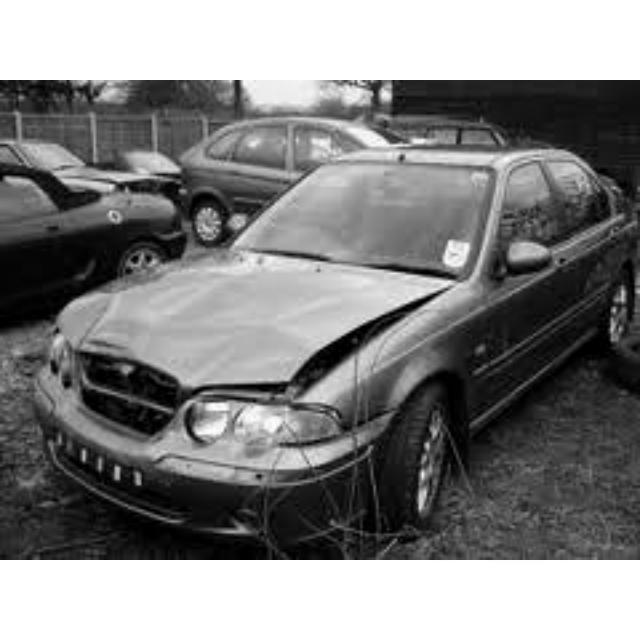bonnet-dent: (62, 259, 440, 376)
